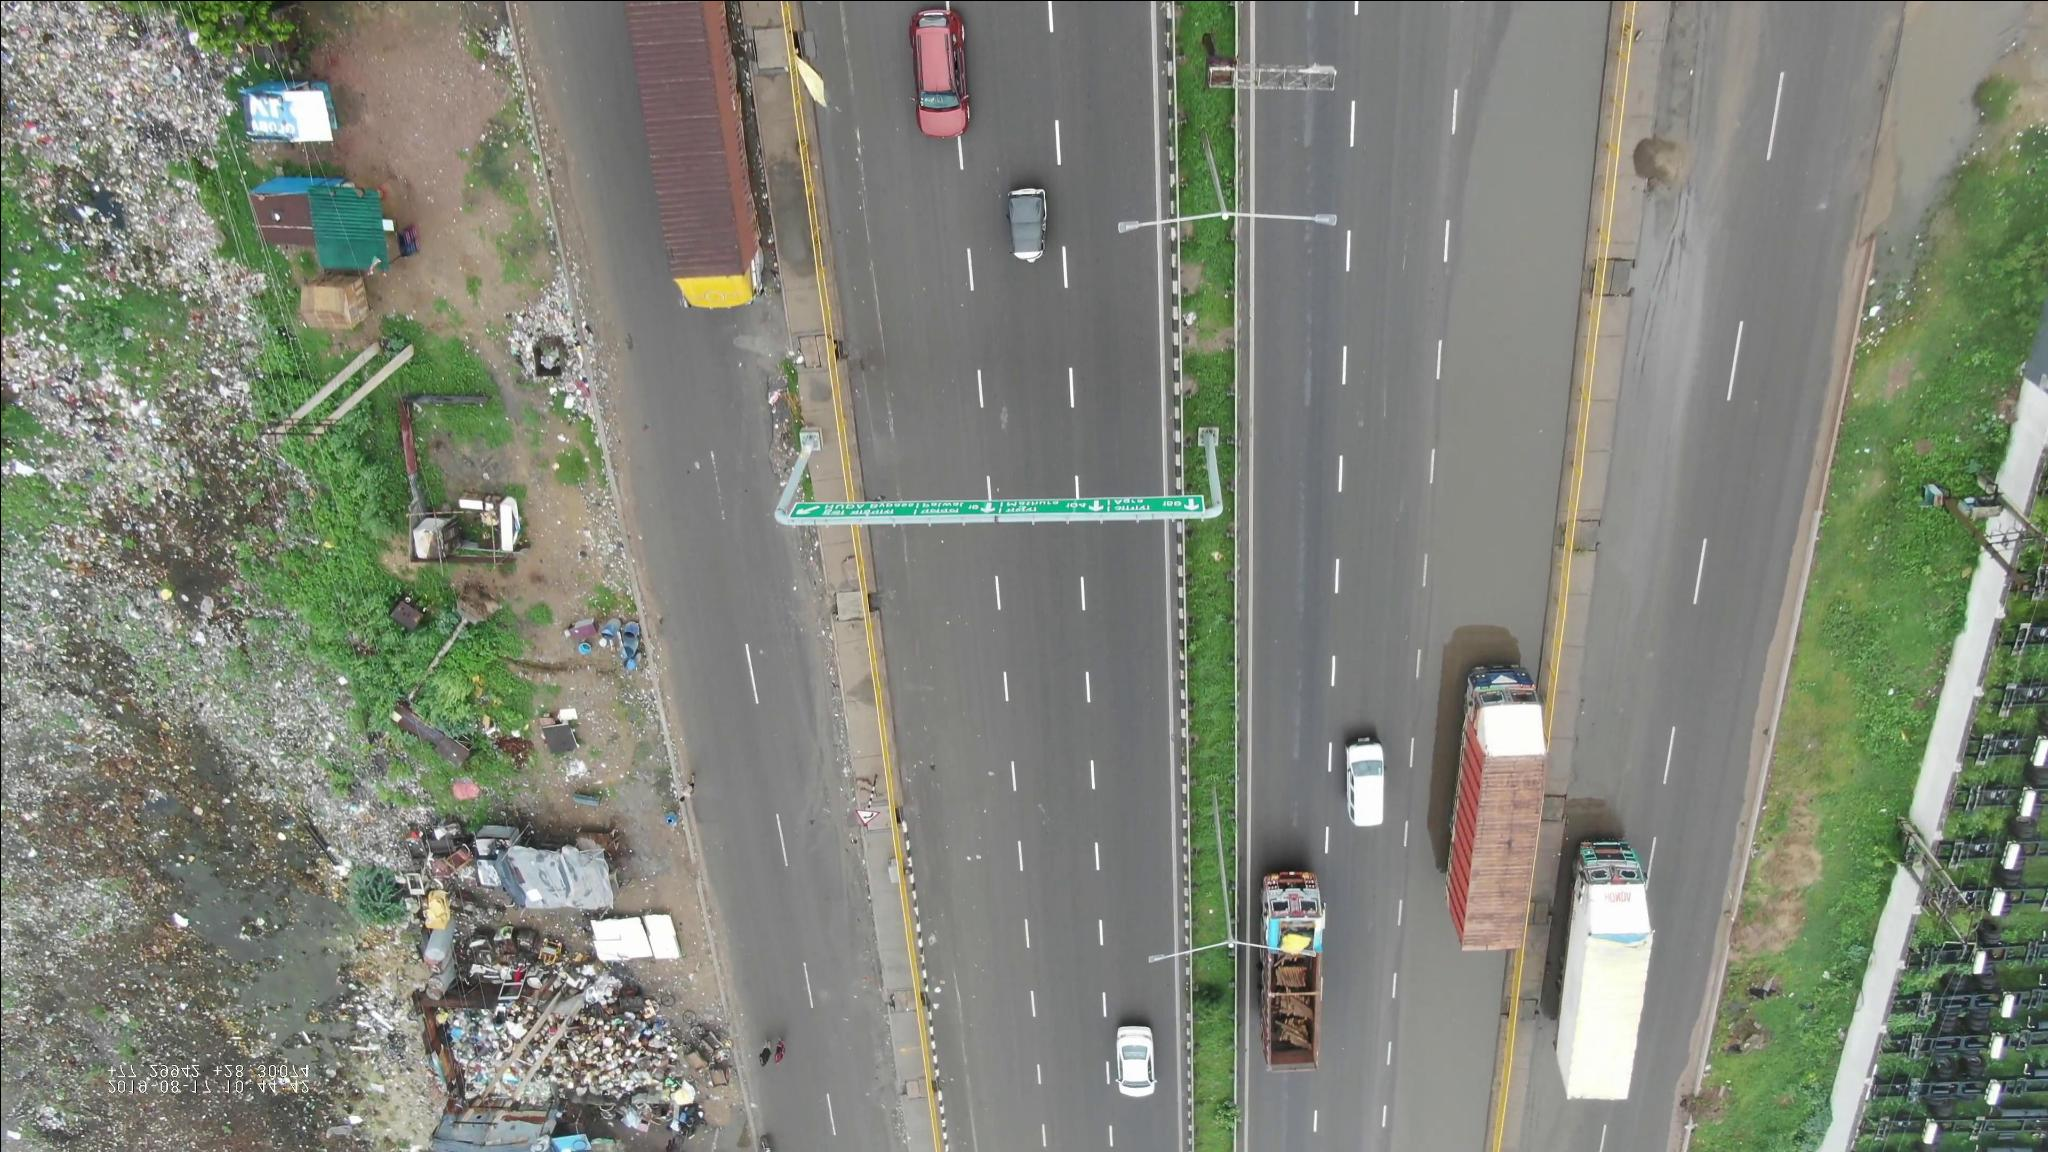Road_side_garbage: (14, 13, 229, 252), (473, 284, 591, 442)
